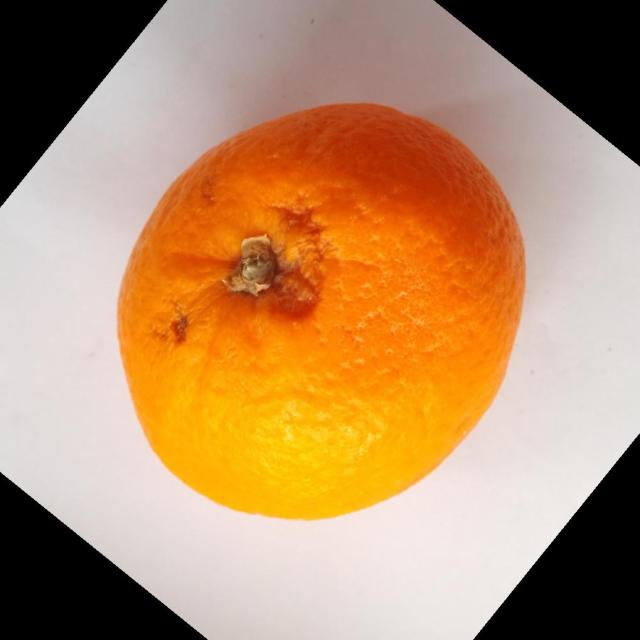fresh orange: (116, 100, 526, 522)
